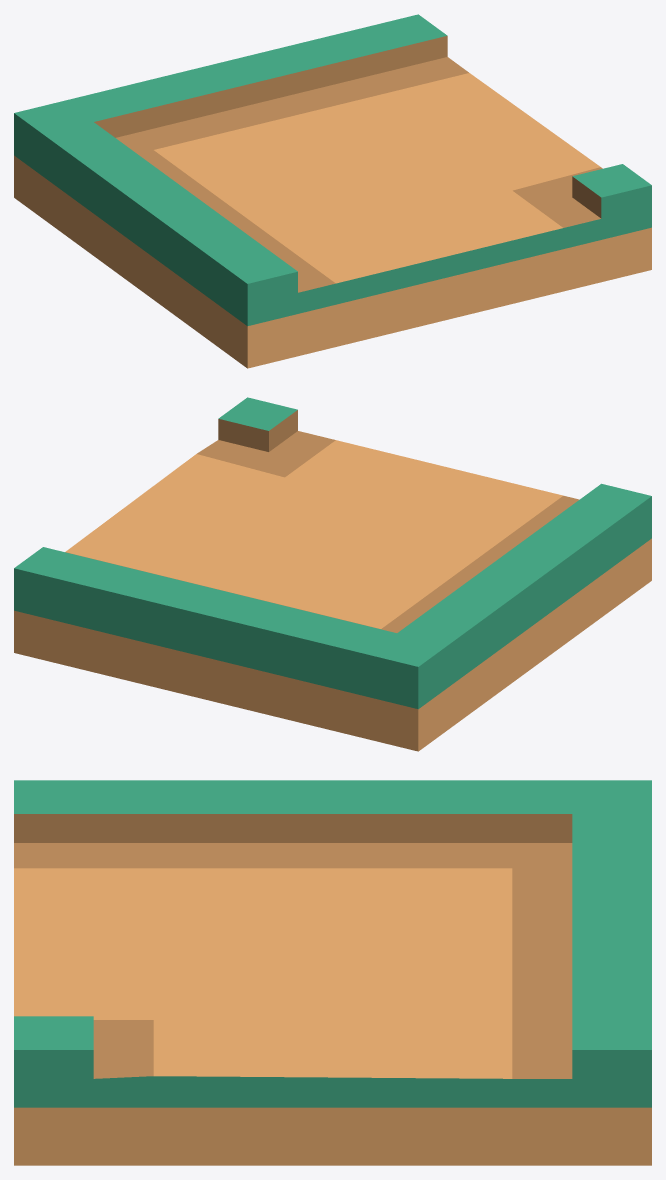
File: TilePathCurveStraigthGrass.fbx
3 views of the same model, one above another, from view 1: azimuth 30°, elevation 25°; view 2: azimuth 150°, elevation 25°; view 3: azimuth 270°, elevation 25° (orthographic). The views are drawn at different scales.
Parts seen in each view (by area): view 1: tile_cornerSquare; view 2: tile_cornerSquare; view 3: tile_cornerSquare.
Boxes of the visible parts, x1,y1,x2,y2 form: tile_cornerSquare: (14,14,651,368); tile_cornerSquare: (14,397,651,751); tile_cornerSquare: (14,780,651,1165).
Size of the model in its own units: 39.37 by 39.37 by 7.87.
